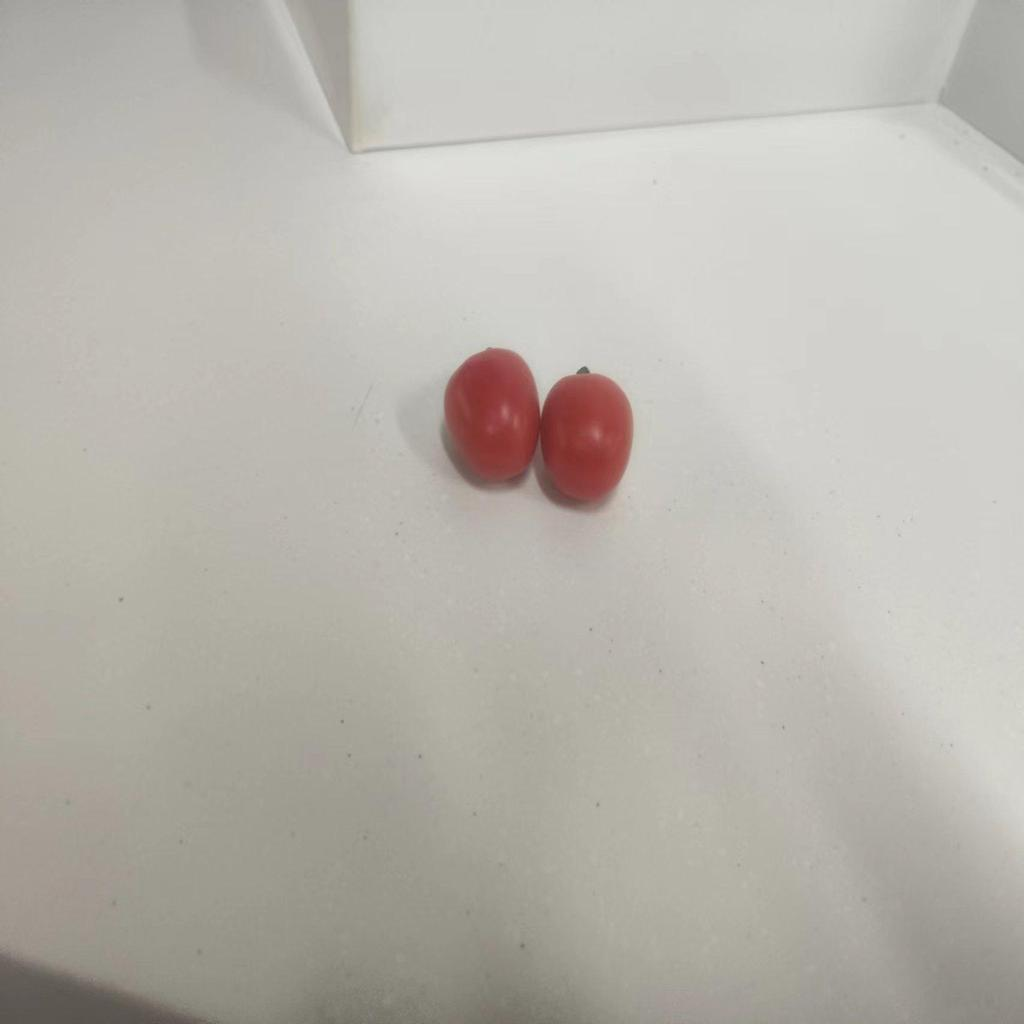tomato: (435, 346, 541, 489), (535, 358, 636, 504)
